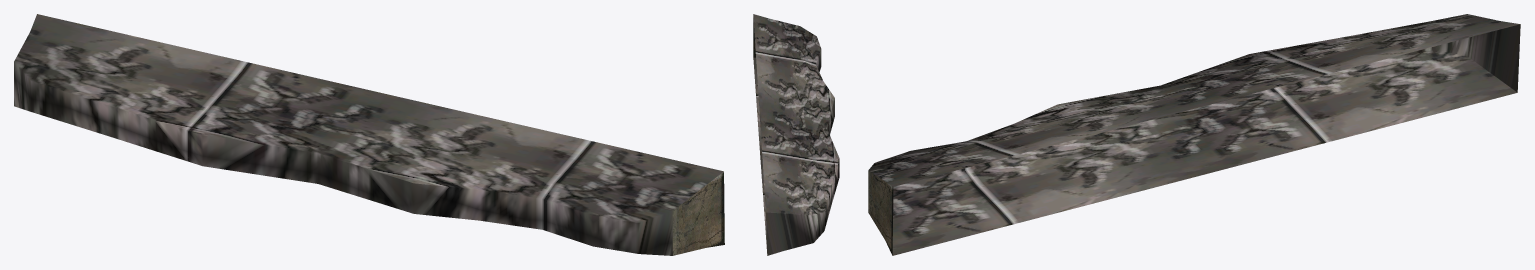
Rendered from CH09_SMAUG_PLAYSURFACE_LAIR47.fbx.
3 renders of one model, left to right at view 1: azimuth 30°, elevation 25°; view 2: azimuth 150°, elevation 25°; view 3: azimuth 270°, elevation 25°, orthographic. The views are drawn at different scales.
Parts seen in each view (by area): view 1: CH09_SMAUG_PLAYSURFACE_LAIR47; view 2: CH09_SMAUG_PLAYSURFACE_LAIR47; view 3: CH09_SMAUG_PLAYSURFACE_LAIR47.
Part boxes in pixels (left/top/right/bottom): CH09_SMAUG_PLAYSURFACE_LAIR47: left=14, top=14, right=724, bottom=255; CH09_SMAUG_PLAYSURFACE_LAIR47: left=753, top=14, right=839, bottom=255; CH09_SMAUG_PLAYSURFACE_LAIR47: left=868, top=14, right=1520, bottom=255.
Bounding box in the file's own units: 35408 × 6106 × 52326.
2 materials, 2 textured.
